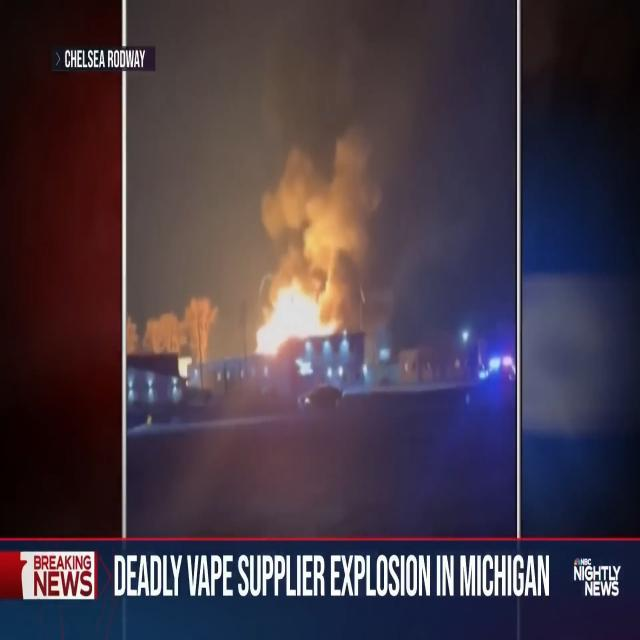fire: (254, 130, 374, 358)
